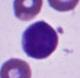L: (20, 19, 58, 60)
